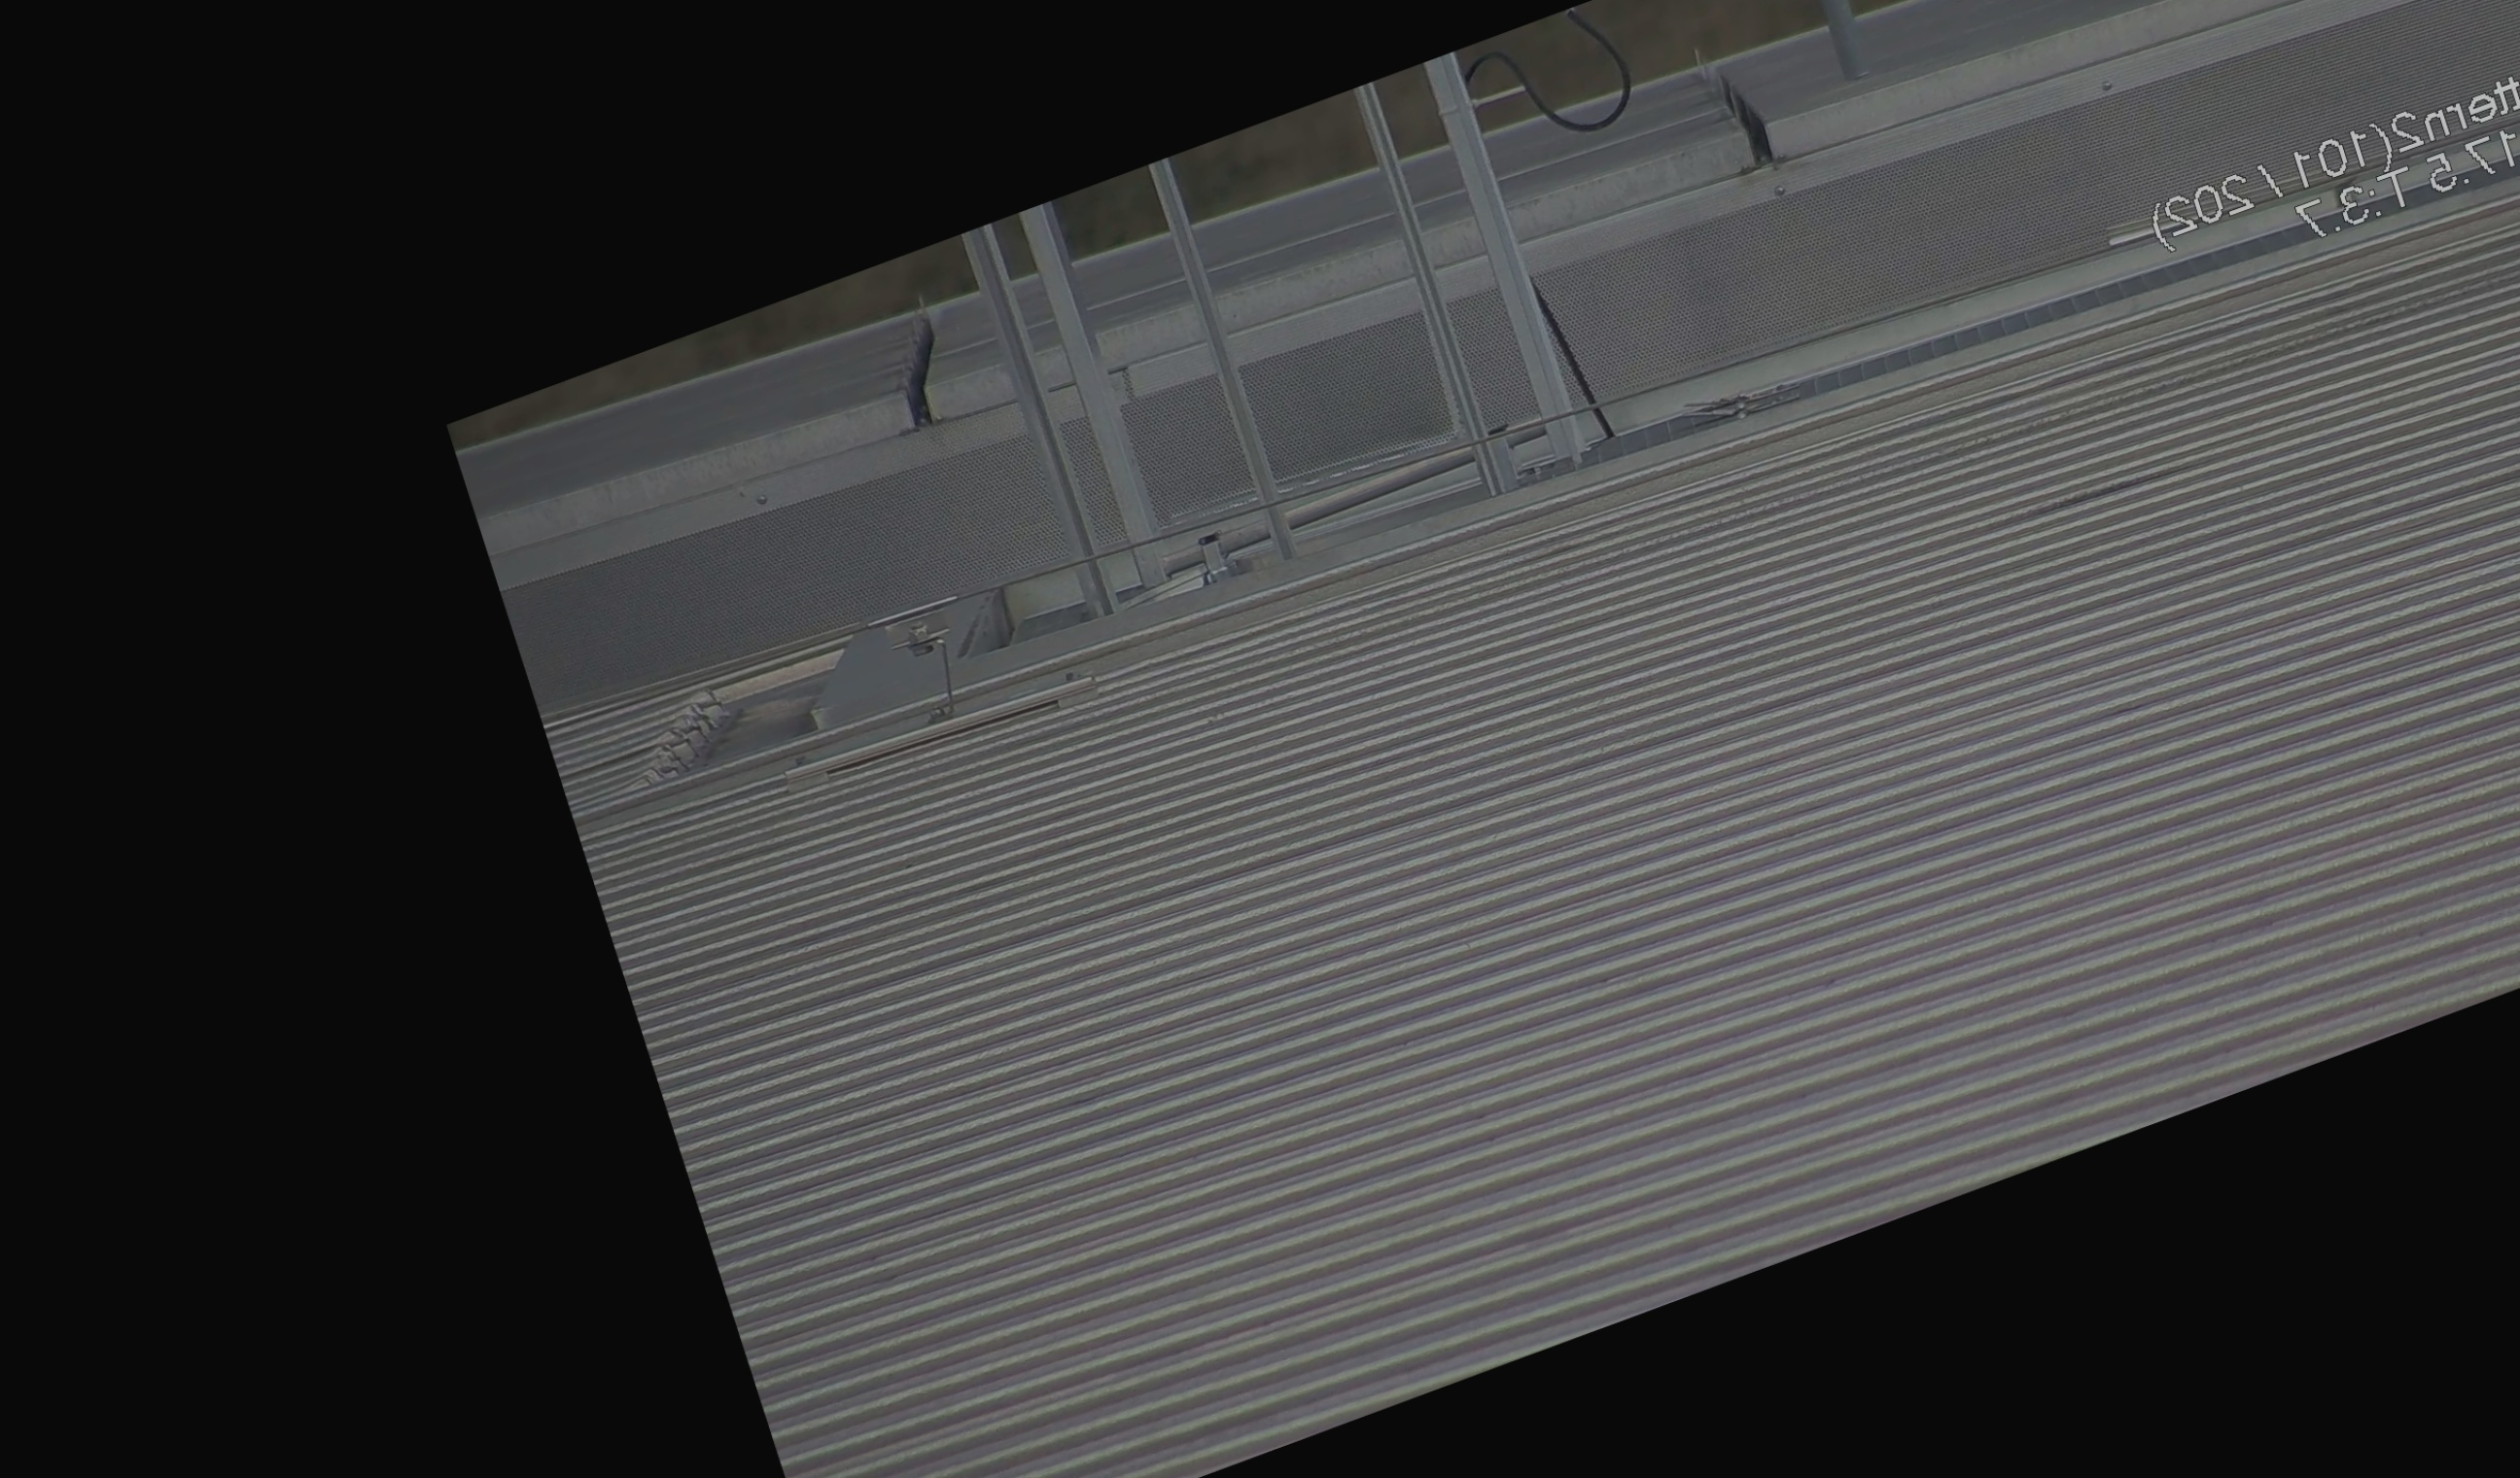Other: (853, 303, 958, 443)
